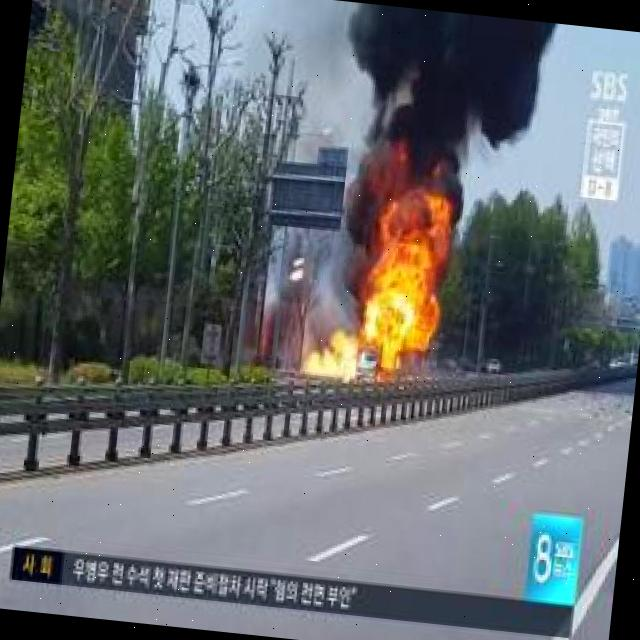fire: (362, 201, 448, 379), (306, 338, 359, 385)
